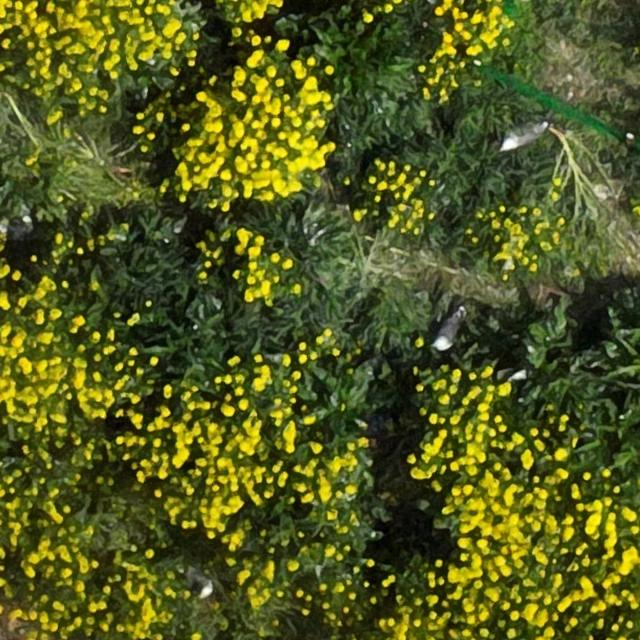umineko: (504, 123, 542, 147), (435, 314, 459, 351), (184, 570, 213, 596)
